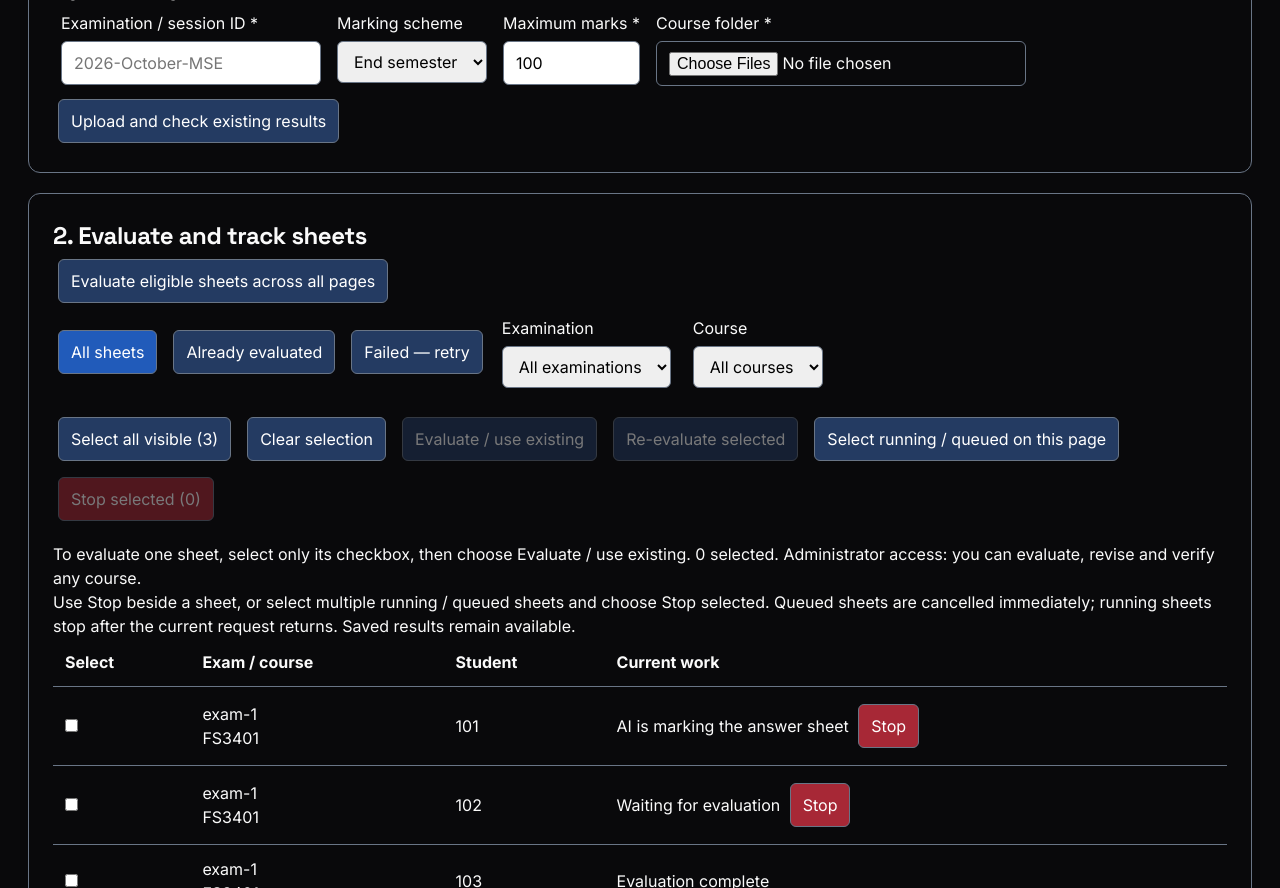
bulk stop sends only selected active sheets and leaves completed results alone
(page scrolled)
Check: the text "101" is shown, box [444, 686, 605, 765]
Check: the button "Stop selected (0)" is disabled, box [58, 477, 214, 521]
Click the button "Select running / queued on this page" at {"x": 967, "y": 439}, box [814, 417, 1119, 461]
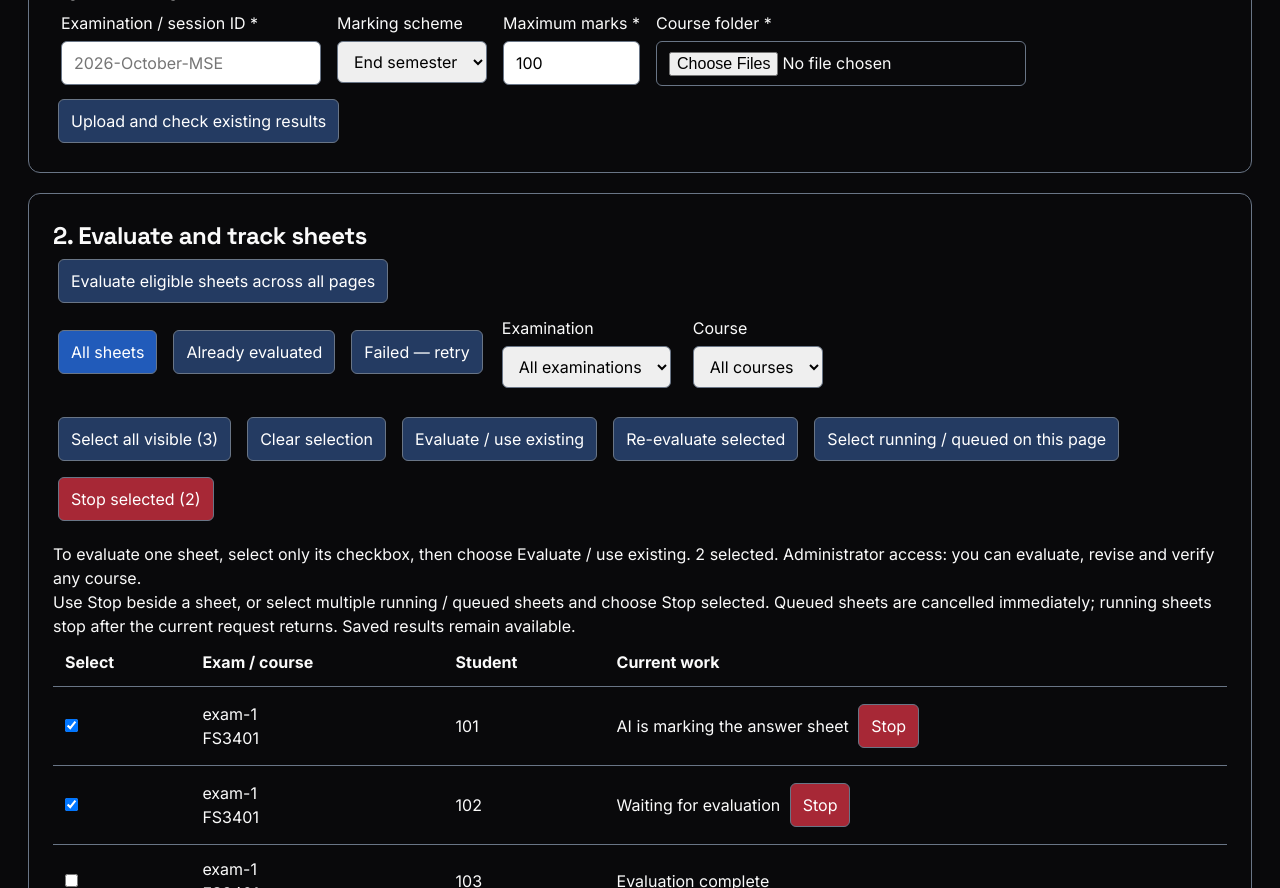
Click the checkbox named "Select 103" at {"x": 72, "y": 880}, box [65, 874, 78, 887]
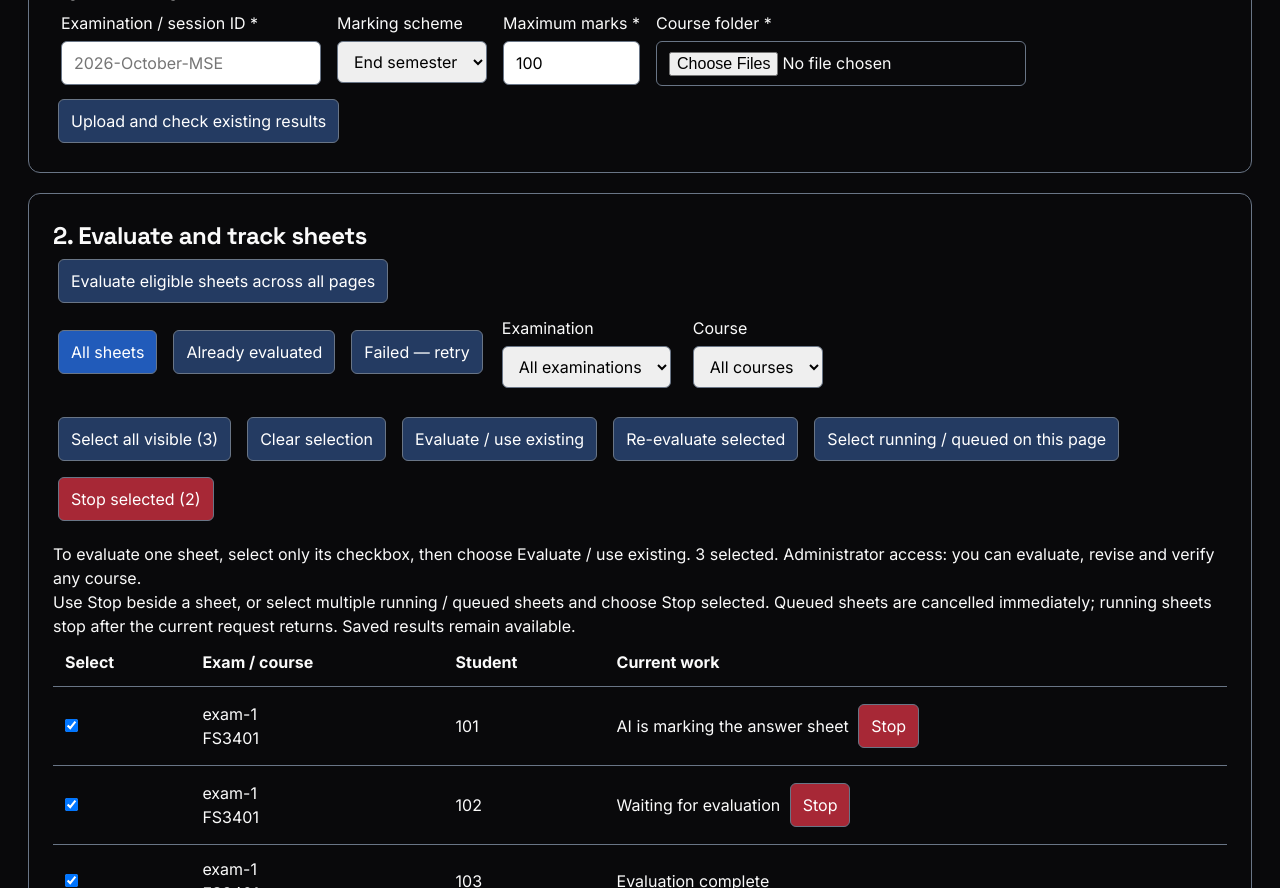
Click the button "Stop selected (2)" at {"x": 136, "y": 499}, box [58, 477, 214, 521]
(page scrolled)
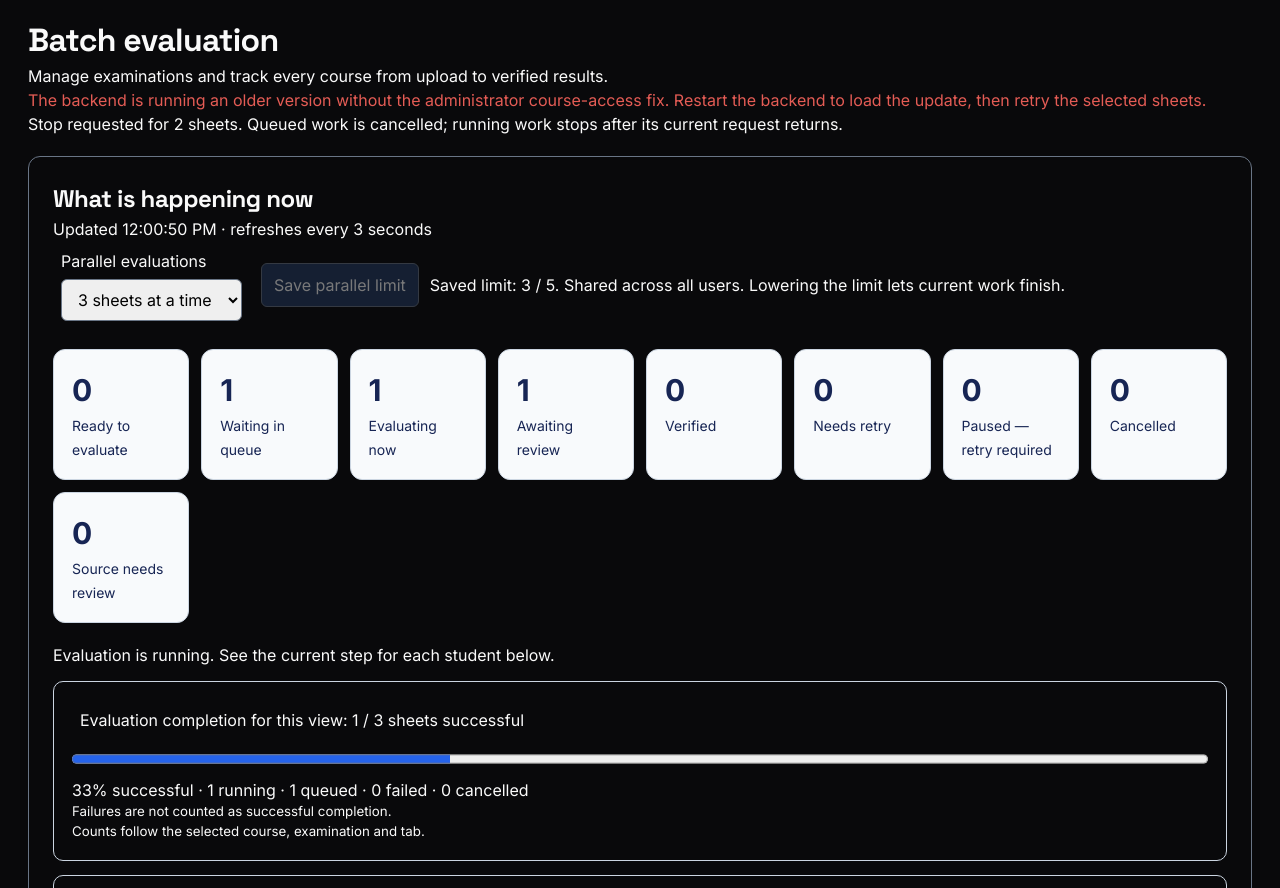
Check: the text "Stop requested for 2 sheets." is shown, box [28, 114, 843, 134]
